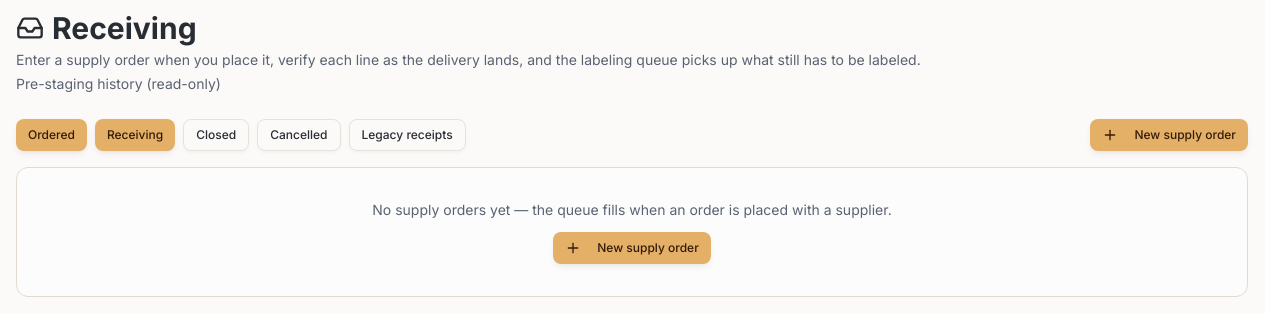
QA-3: issues NO request at all when no chip is selected
This screenshot has width=1265, height=314.
Expected: the element with test id "shipment-list-empty" is shown, left=16, top=167, right=1248, bottom=297
Click the button "Ordered" at (52, 135), box left=16, top=119, right=87, bottom=151
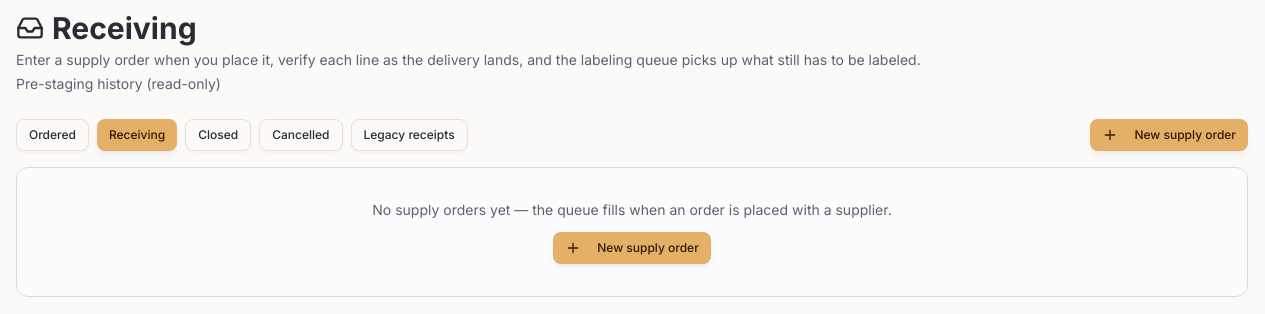
Click the button "Receiving" at (137, 135), box left=97, top=119, right=177, bottom=151
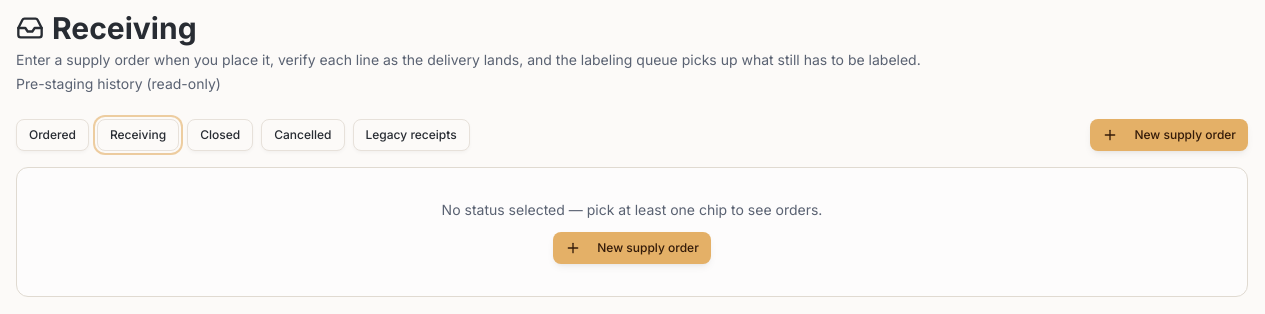
Expected: the text "No status selected — pick at least one chip to see orders." is shown, left=442, top=201, right=822, bottom=218
